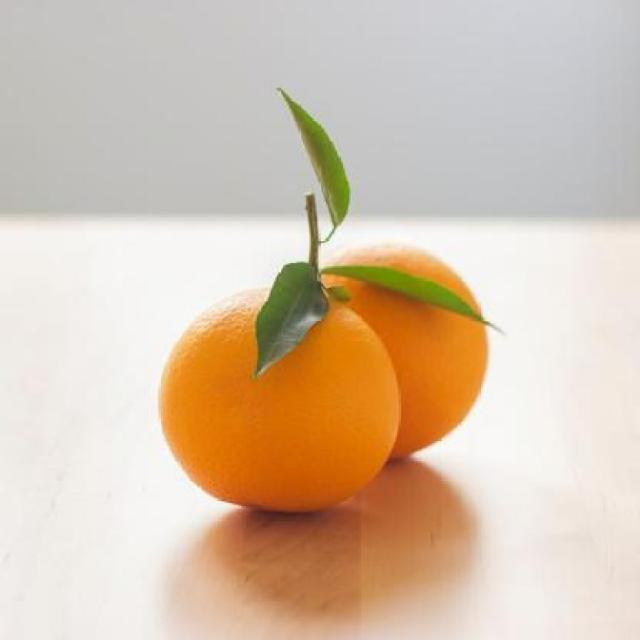Jeruk Sudah Matang: (153, 284, 402, 518), (294, 238, 488, 464)
